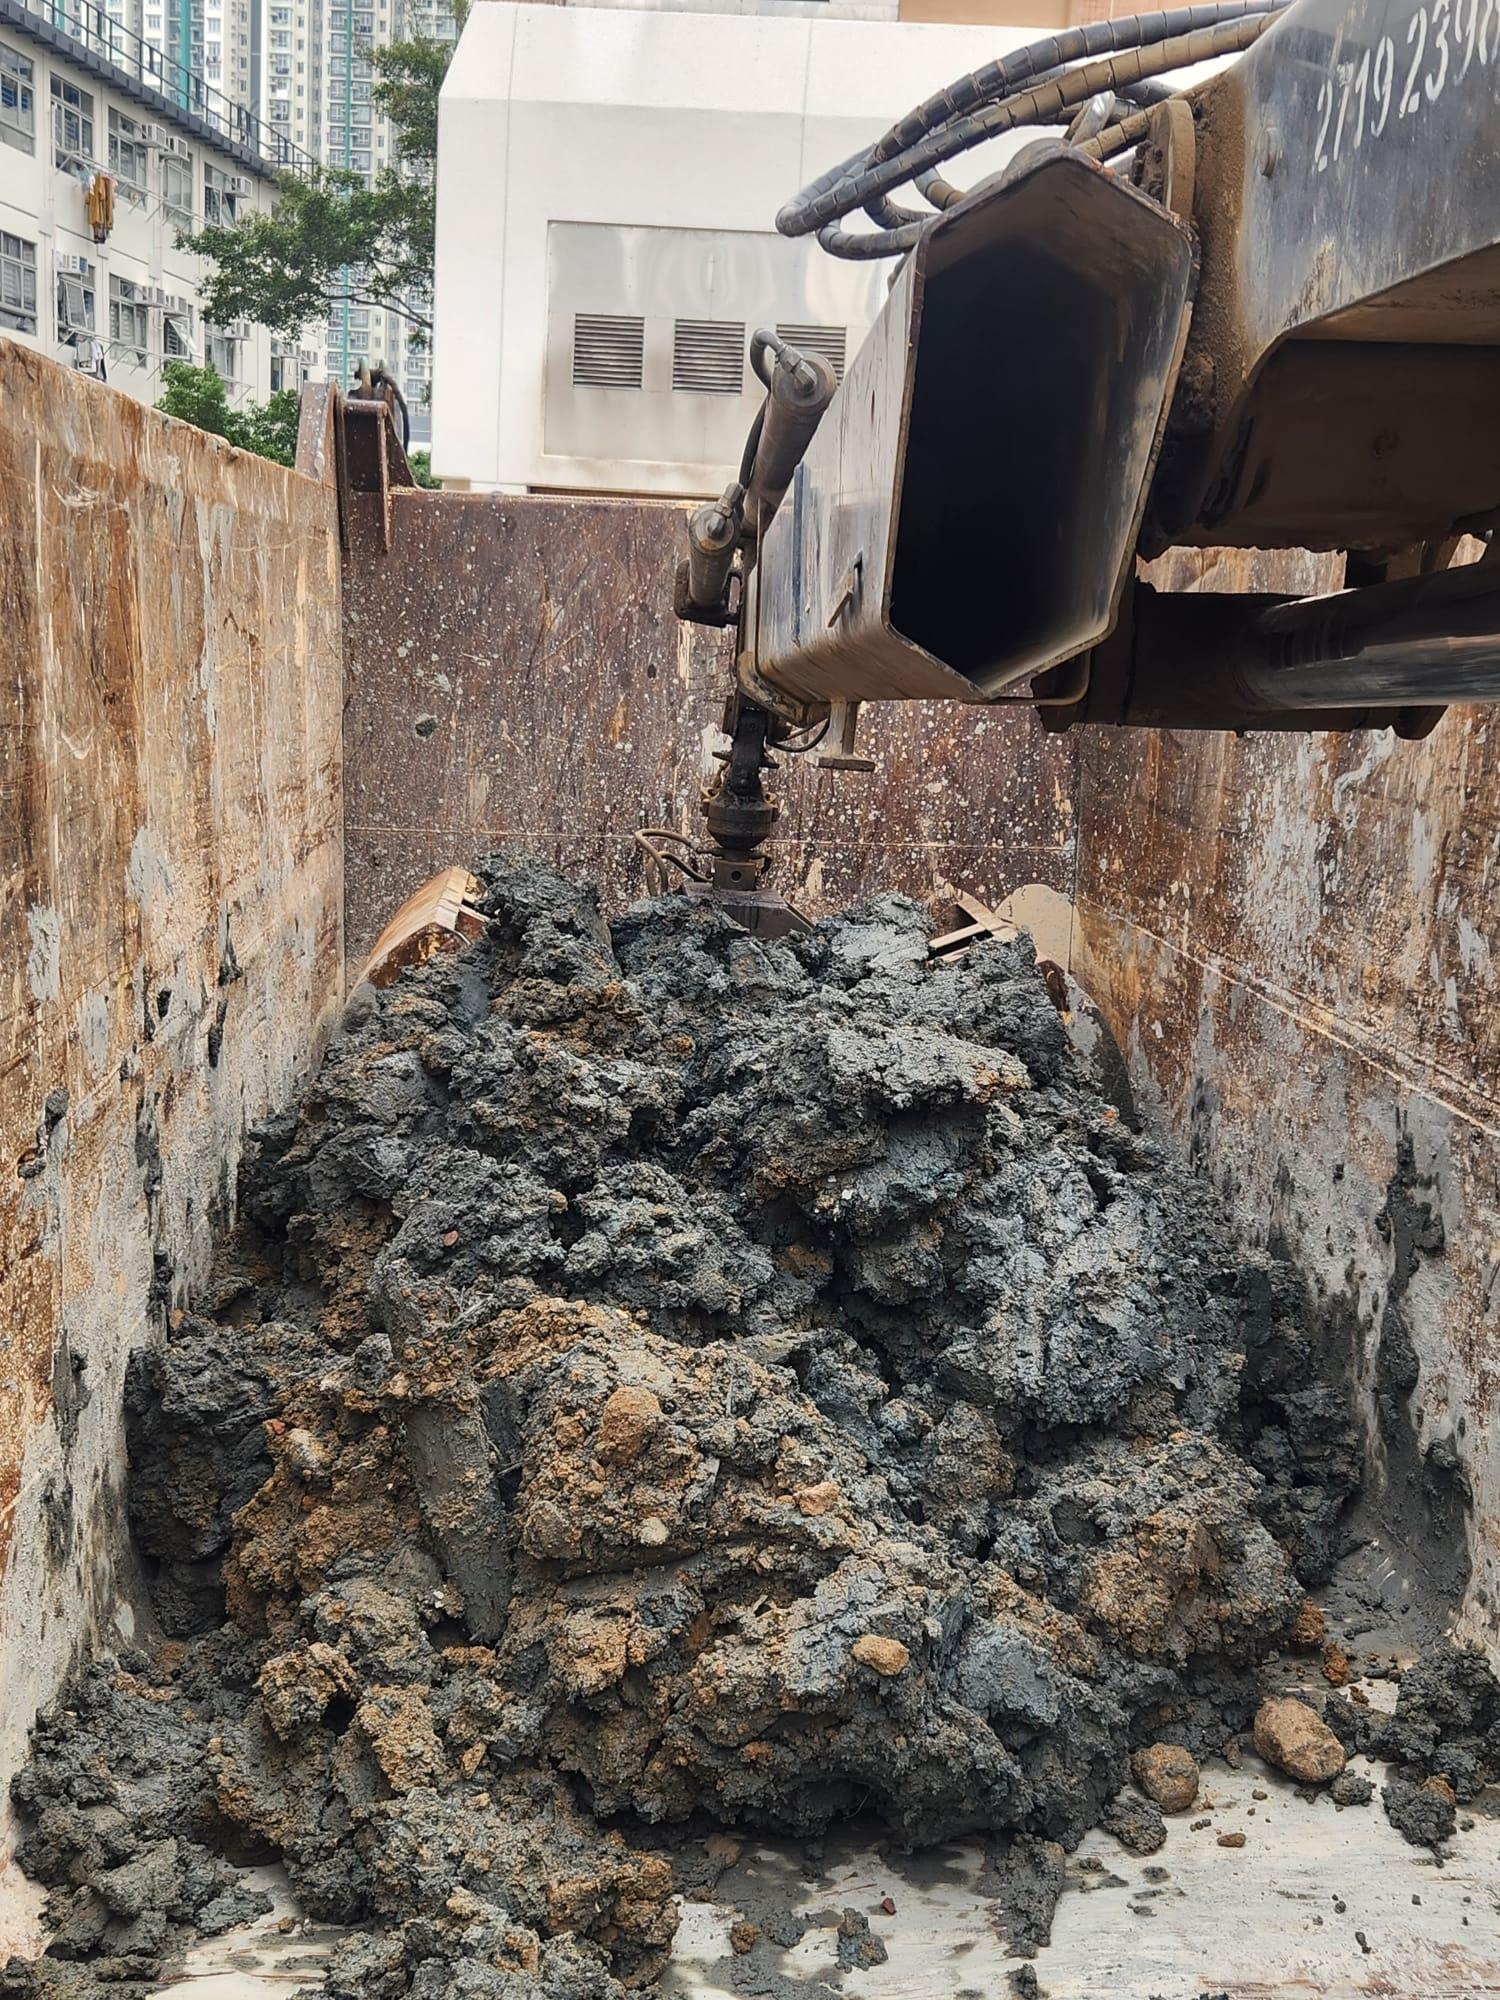wet: (24, 874, 1387, 1973)
